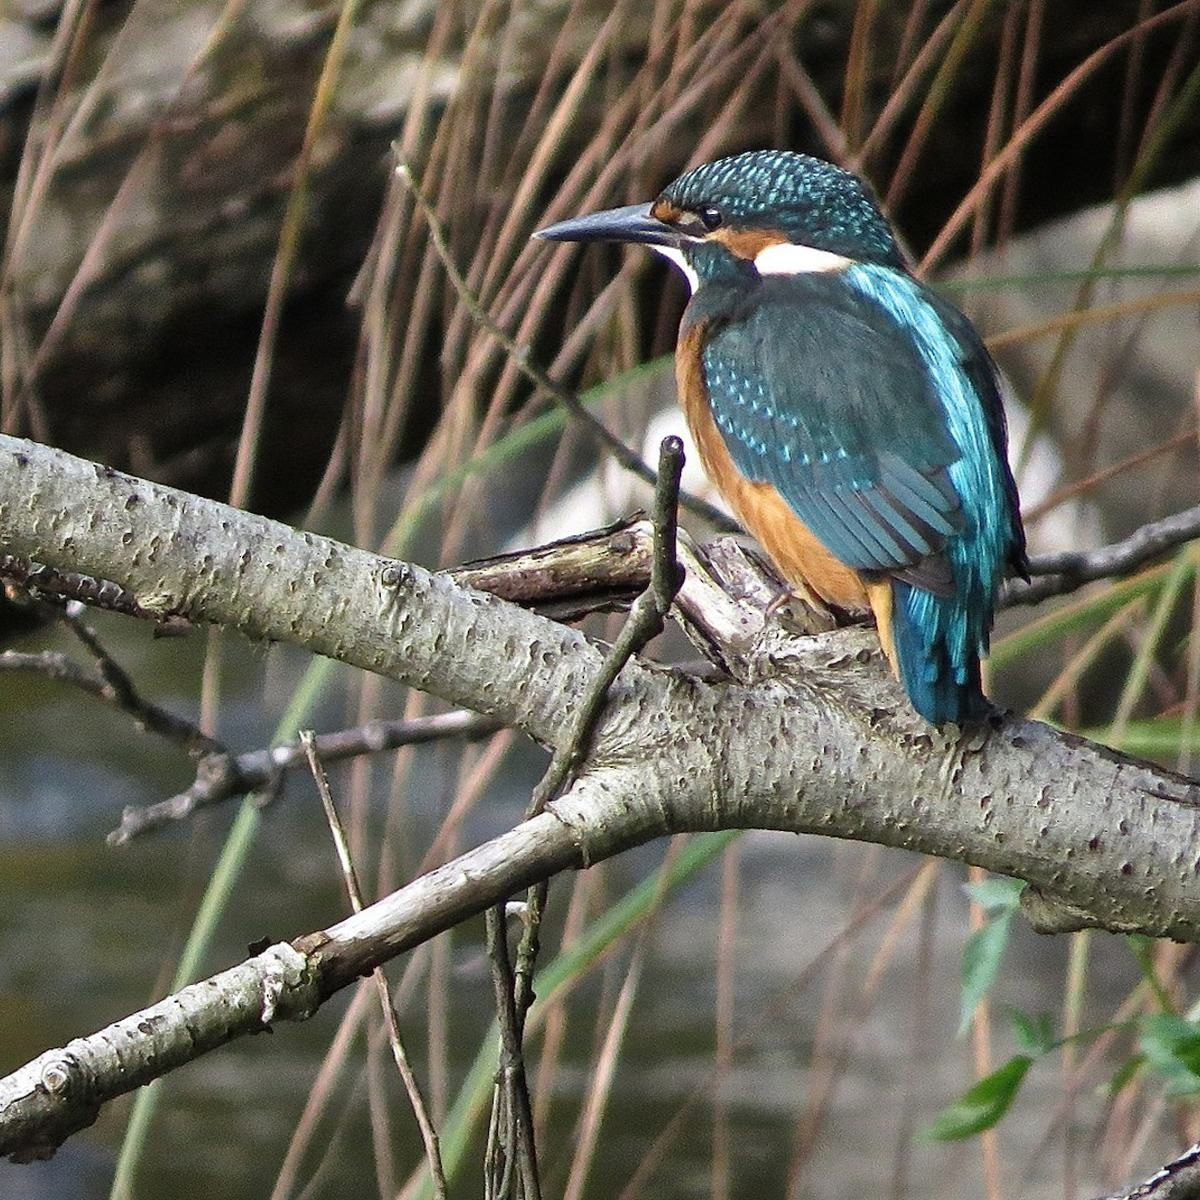kingfisher: (490, 138, 1076, 708)
